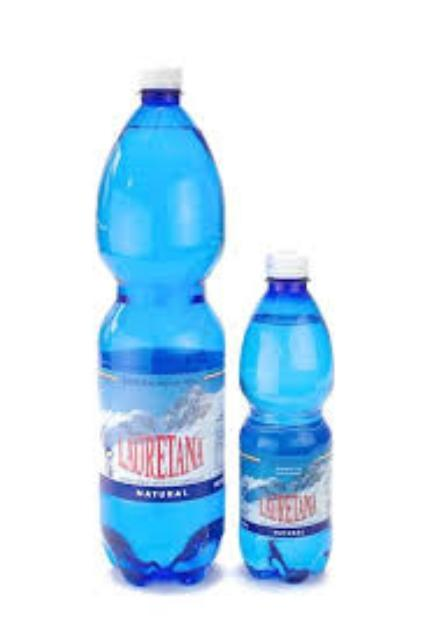plastic: (95, 77, 219, 579), (237, 254, 328, 577)
